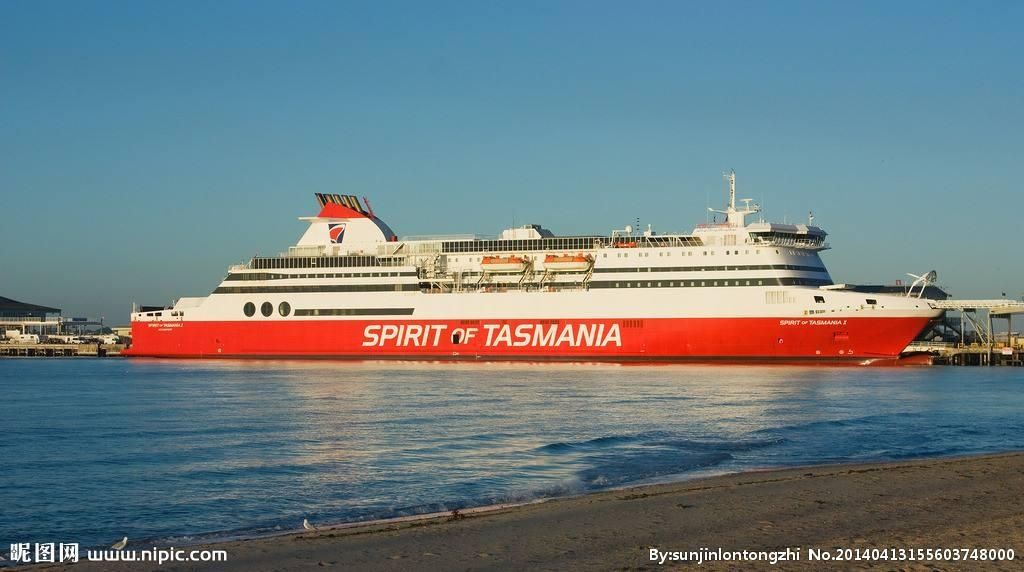youlun: (115, 174, 987, 365)
